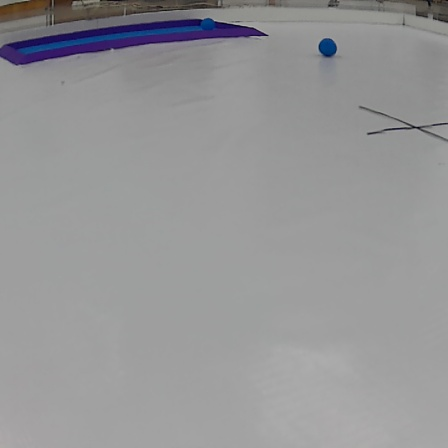blue: (316, 33, 339, 60), (199, 14, 217, 33)
blue_aim: (2, 20, 271, 63)
